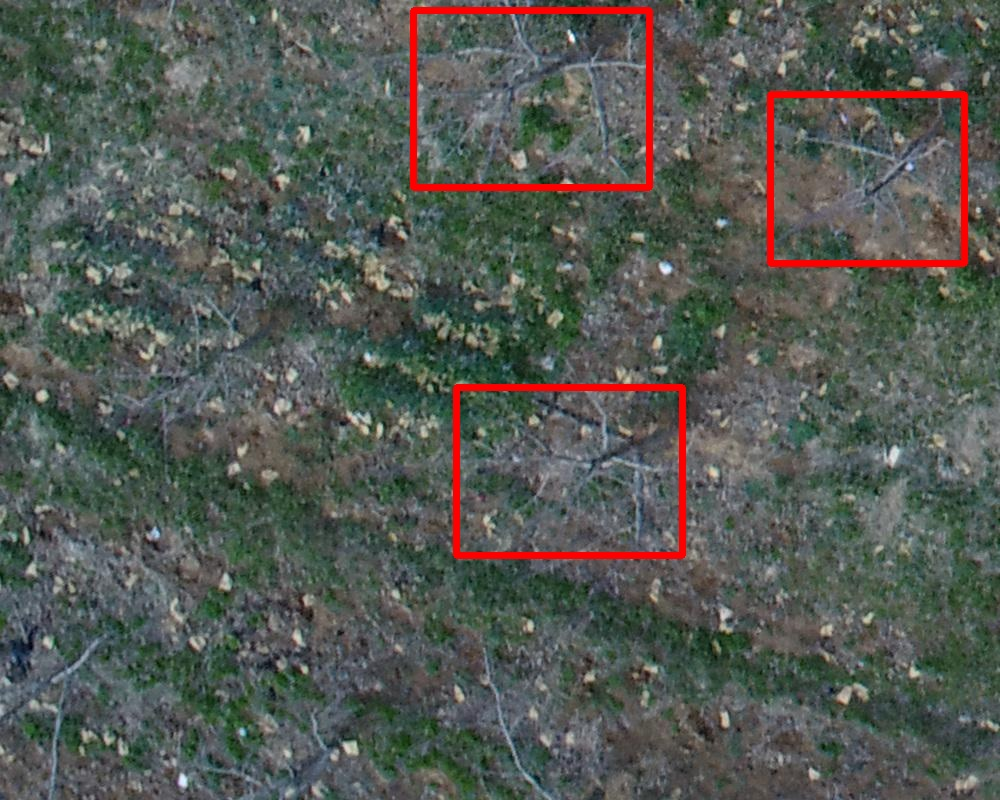apple: (413, 10, 649, 187), (456, 387, 682, 555), (770, 94, 964, 263)
